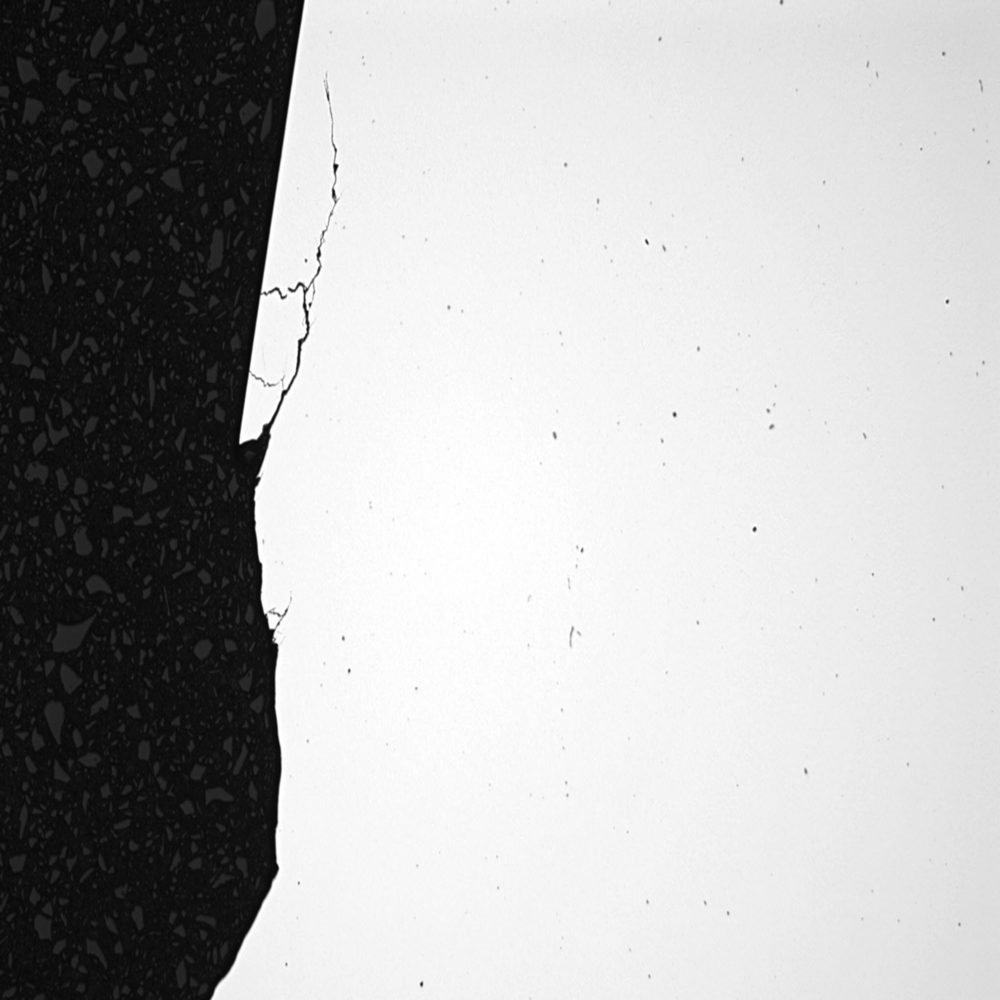crack: (209, 44, 377, 518)
